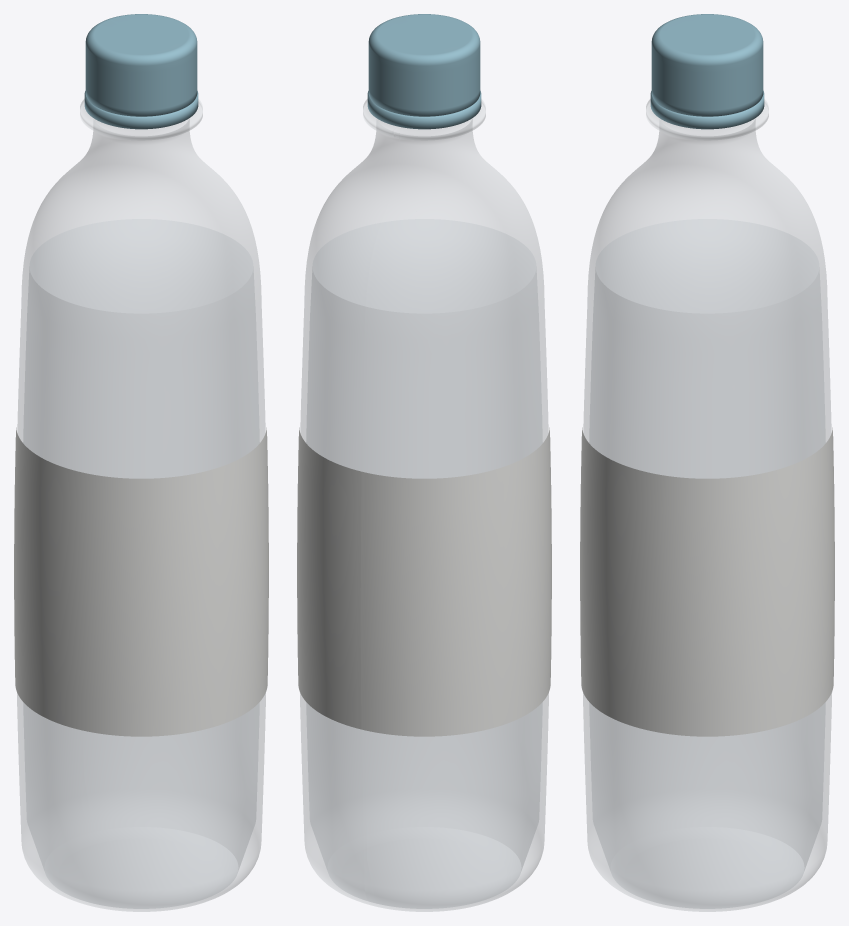
Rendered from nxtsip-bottle.glb.
The picture shows the model from 3 angles, left to right: view 1: azimuth 30°, elevation 25°; view 2: azimuth 150°, elevation 25°; view 3: azimuth 270°, elevation 25°; orthographic projection.
Parts seen in each view (by area): view 1: Body, Water, Label, Cap, SealRing; view 2: Body, Water, Label, Cap, SealRing; view 3: Body, Water, Label, Cap, SealRing.
Part boxes in pixels (x1=…): Body: x1=17, y1=99, x2=265, y2=911; Water: x1=23, y1=219, x2=259, y2=908; Label: x1=14, y1=427, x2=268, y2=736; Cap: x1=85, y1=14, x2=197, y2=116; SealRing: x1=84, y1=91, x2=198, y2=129; Body: x1=300, y1=99, x2=548, y2=911; Water: x1=306, y1=219, x2=542, y2=908; Label: x1=297, y1=427, x2=551, y2=736; Cap: x1=368, y1=14, x2=480, y2=116; SealRing: x1=367, y1=91, x2=481, y2=129; Body: x1=583, y1=99, x2=831, y2=911; Water: x1=589, y1=219, x2=825, y2=908; Label: x1=580, y1=427, x2=834, y2=736; Cap: x1=651, y1=14, x2=763, y2=116; SealRing: x1=650, y1=91, x2=764, y2=129.
Size of the model in its own units: 0.0568 by 0.2061 by 0.0568.
